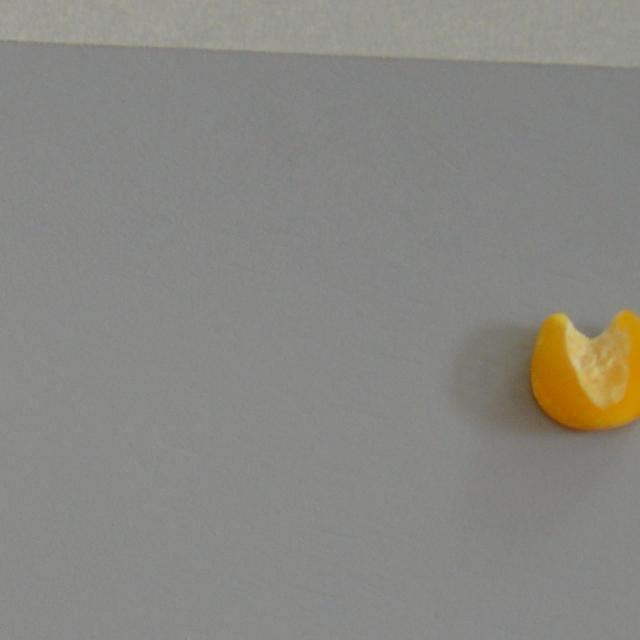no_desgerminado: (526, 306, 640, 436)
